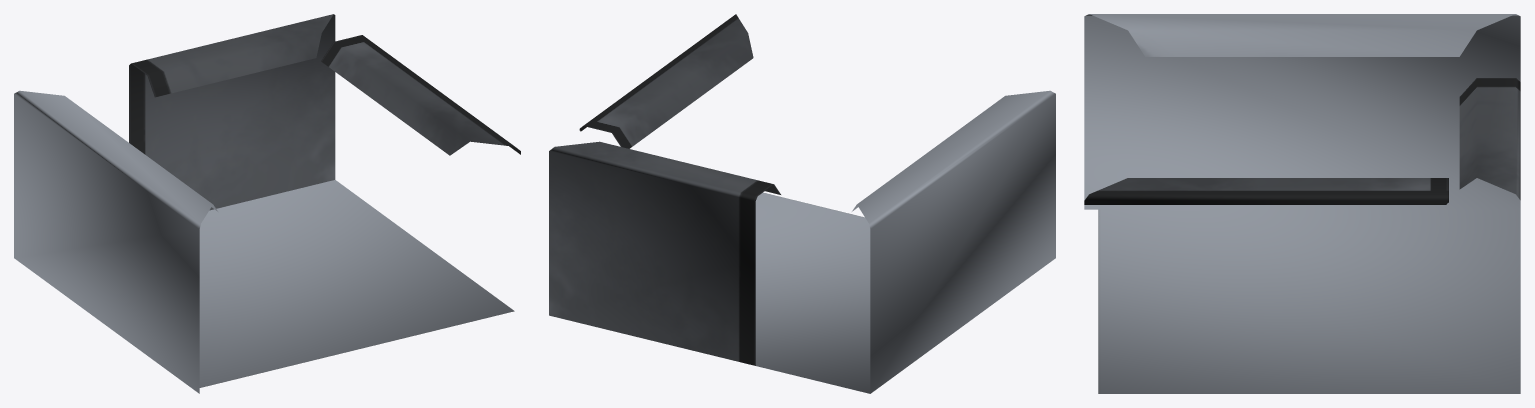
The model's file is Pogotile_1.fbx.
3 renders of one model, left to right at view 1: azimuth 30°, elevation 25°; view 2: azimuth 150°, elevation 25°; view 3: azimuth 270°, elevation 25°, orthographic. The views are drawn at different scales.
Parts seen in each view (by area): view 1: PogoTile_lp.001; view 2: PogoTile_lp.001; view 3: PogoTile_lp.001.
Boxes of the visible parts, left/top/right/bottom form: PogoTile_lp.001: left=14, top=14, right=520, bottom=393; PogoTile_lp.001: left=549, top=14, right=1055, bottom=393; PogoTile_lp.001: left=1084, top=14, right=1520, bottom=393.
Bounding box in the file's own units: 100 × 50 × 100.
